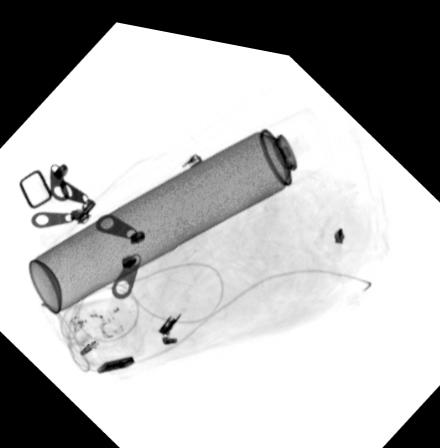Sprayer: (26, 91, 335, 313)
